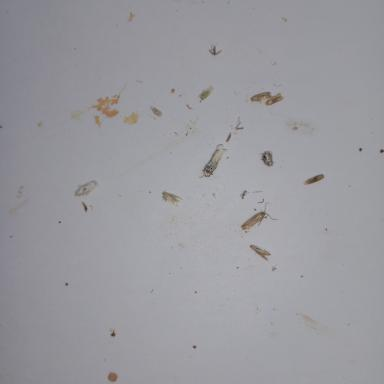pbw: (239, 201, 279, 232), (248, 241, 272, 262), (263, 90, 286, 108), (249, 90, 273, 106), (300, 173, 328, 186)
